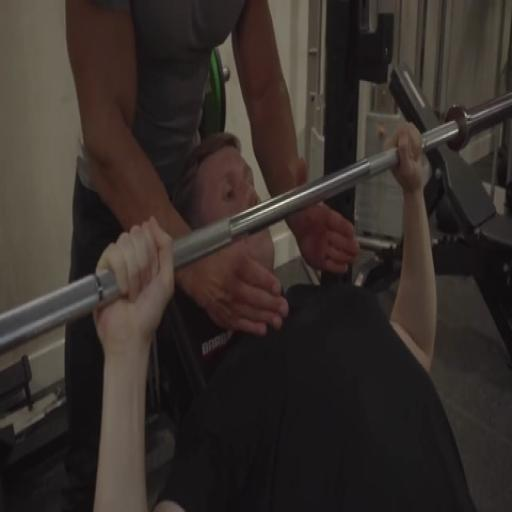exercise: (89, 121, 481, 510)
